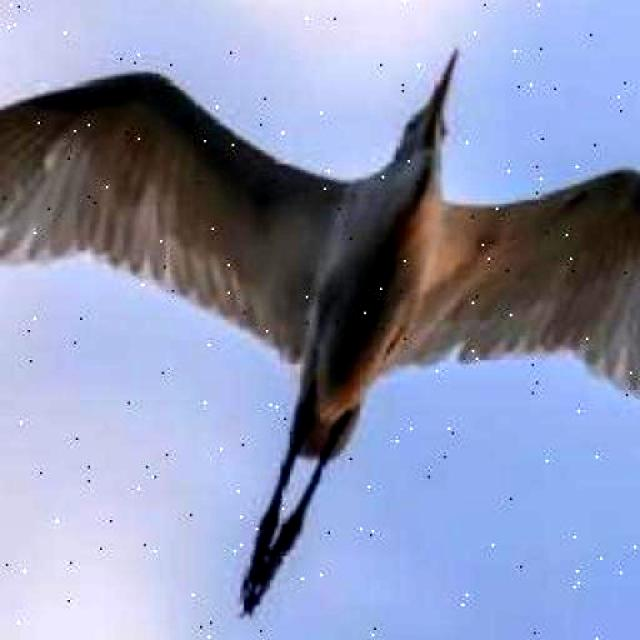airplane: (0, 40, 640, 628)
